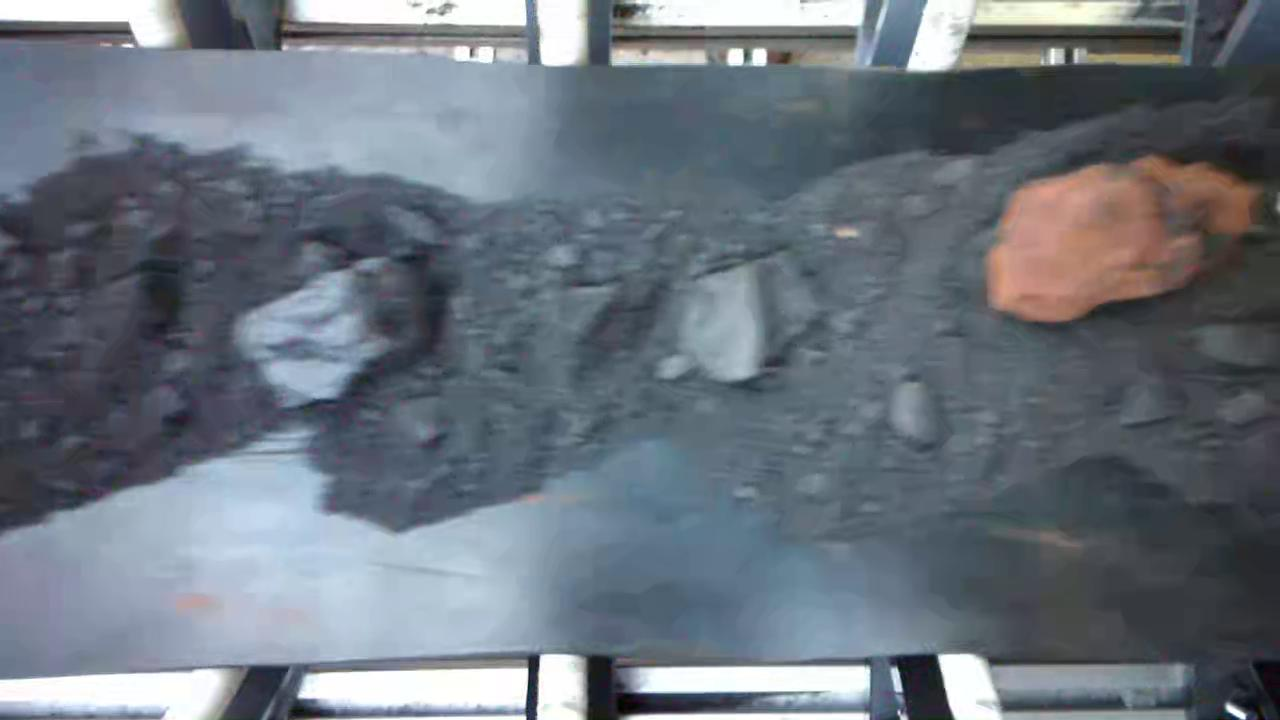conveyor: (10, 68, 1280, 649)
